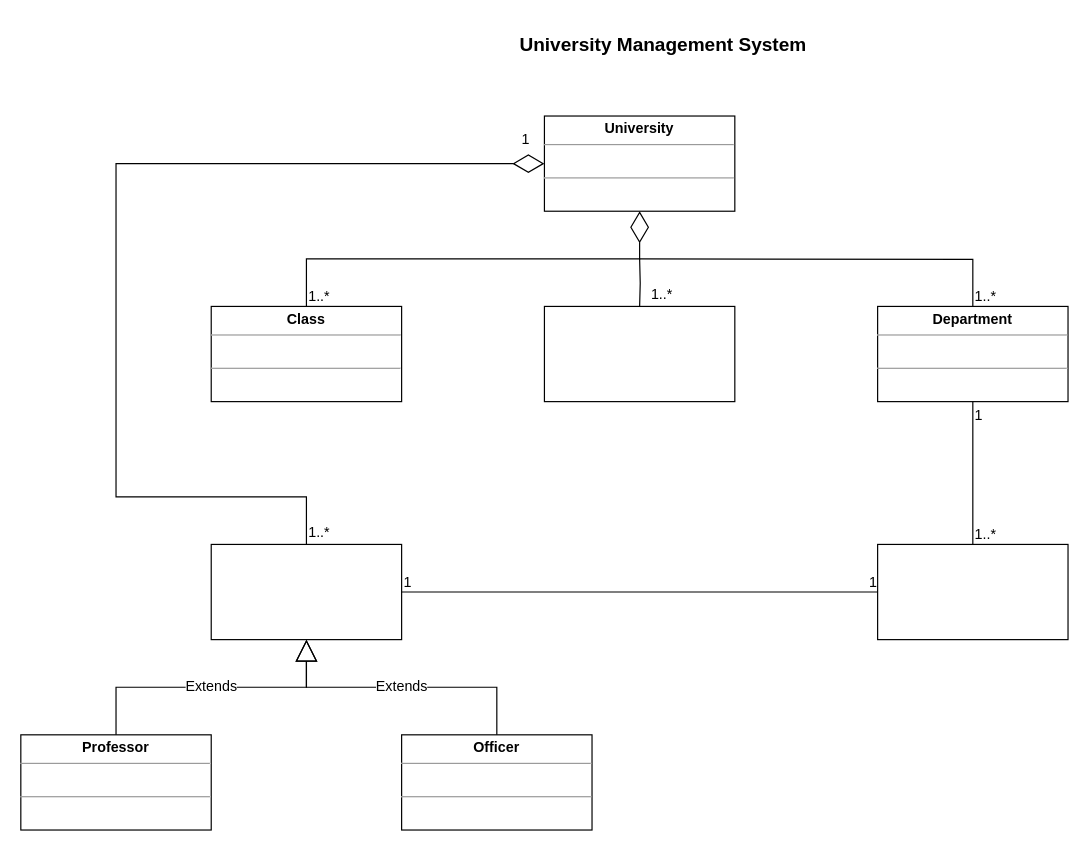
Image size: 1089x851. Some labels were removed from this diagram. The shapes that lost their labels are listed below. From the top down, each one's centre as x and y in pixels, then its label:
At [639,353]: "Work Office".
At [306,591]: "Employee".
At [972,591]: "Office".
